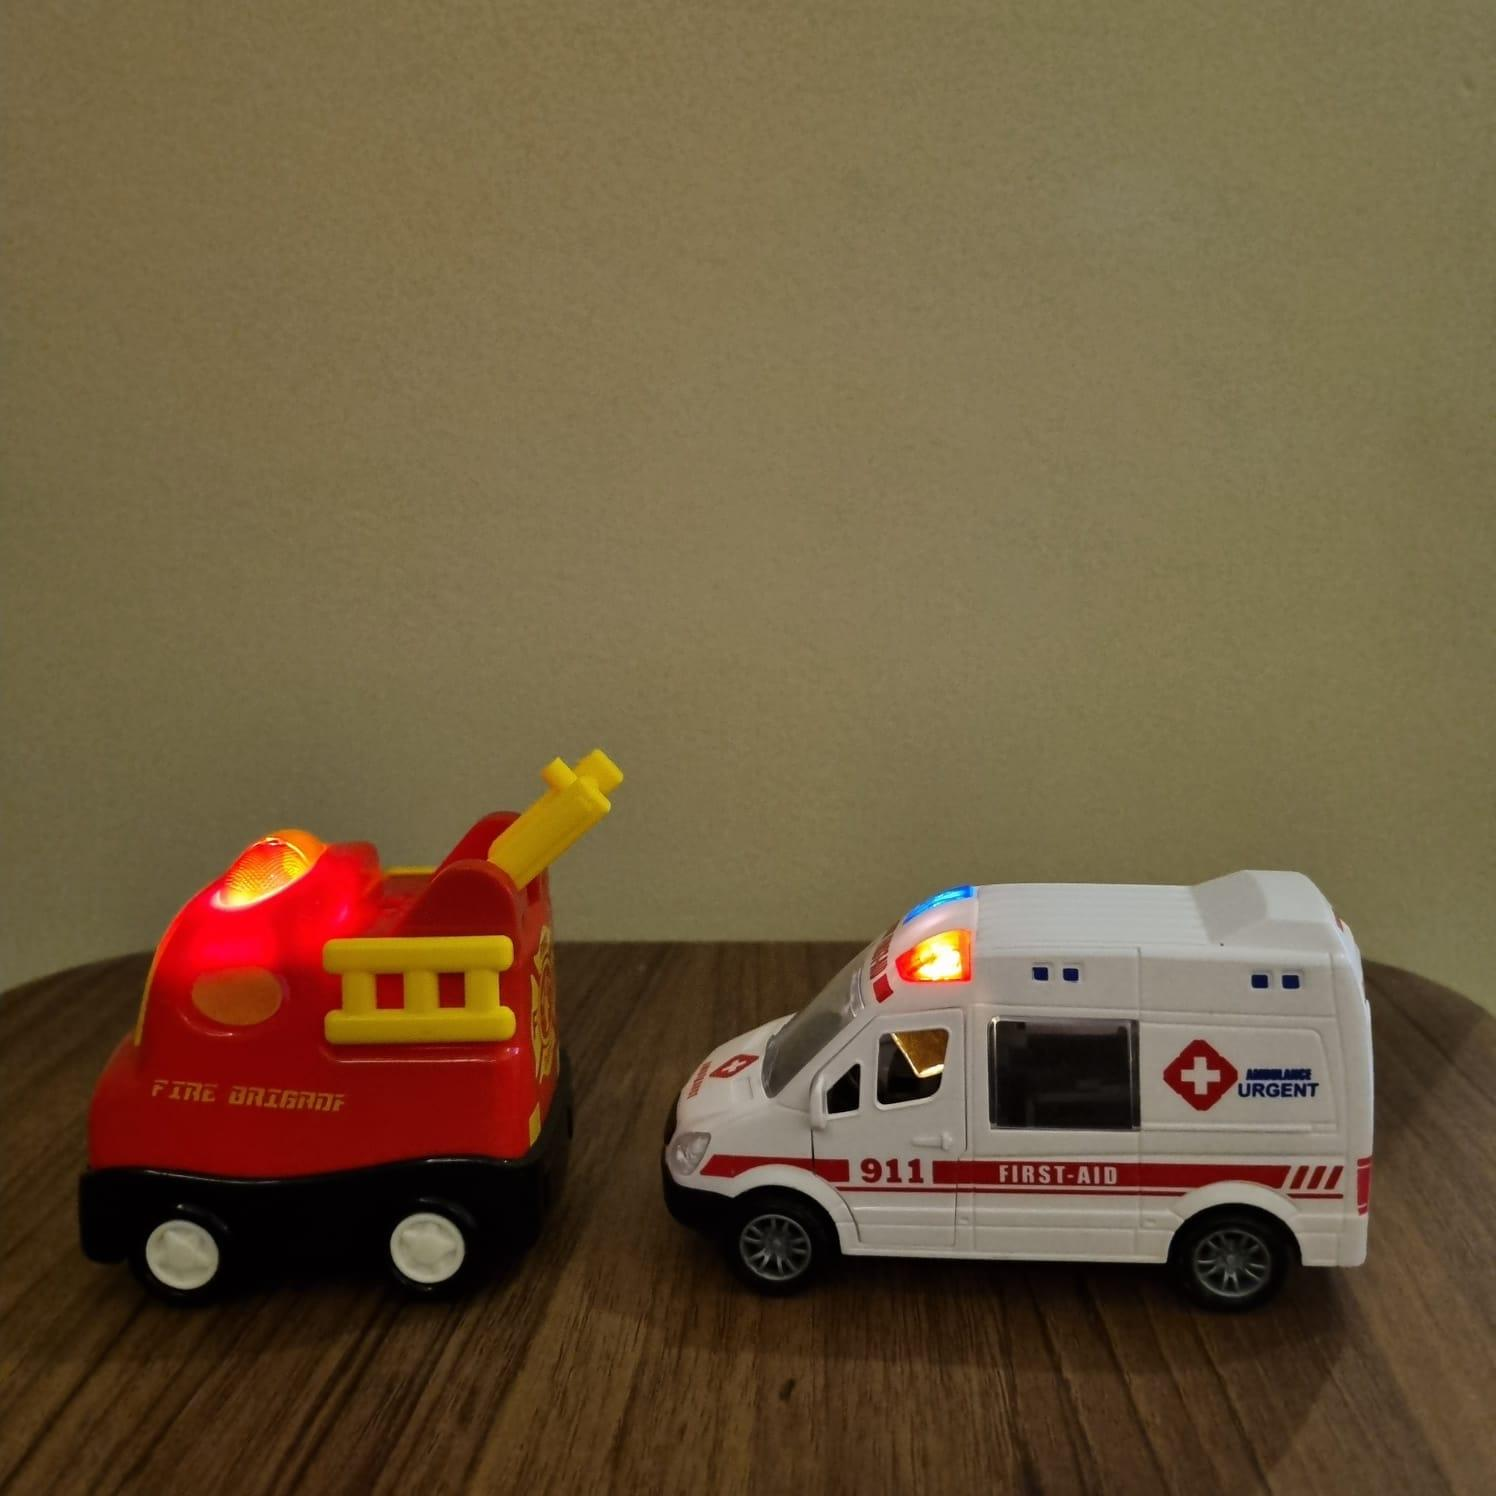ambulance_on: (658, 870, 1377, 1310)
firetruck_on: (71, 744, 627, 1291)
